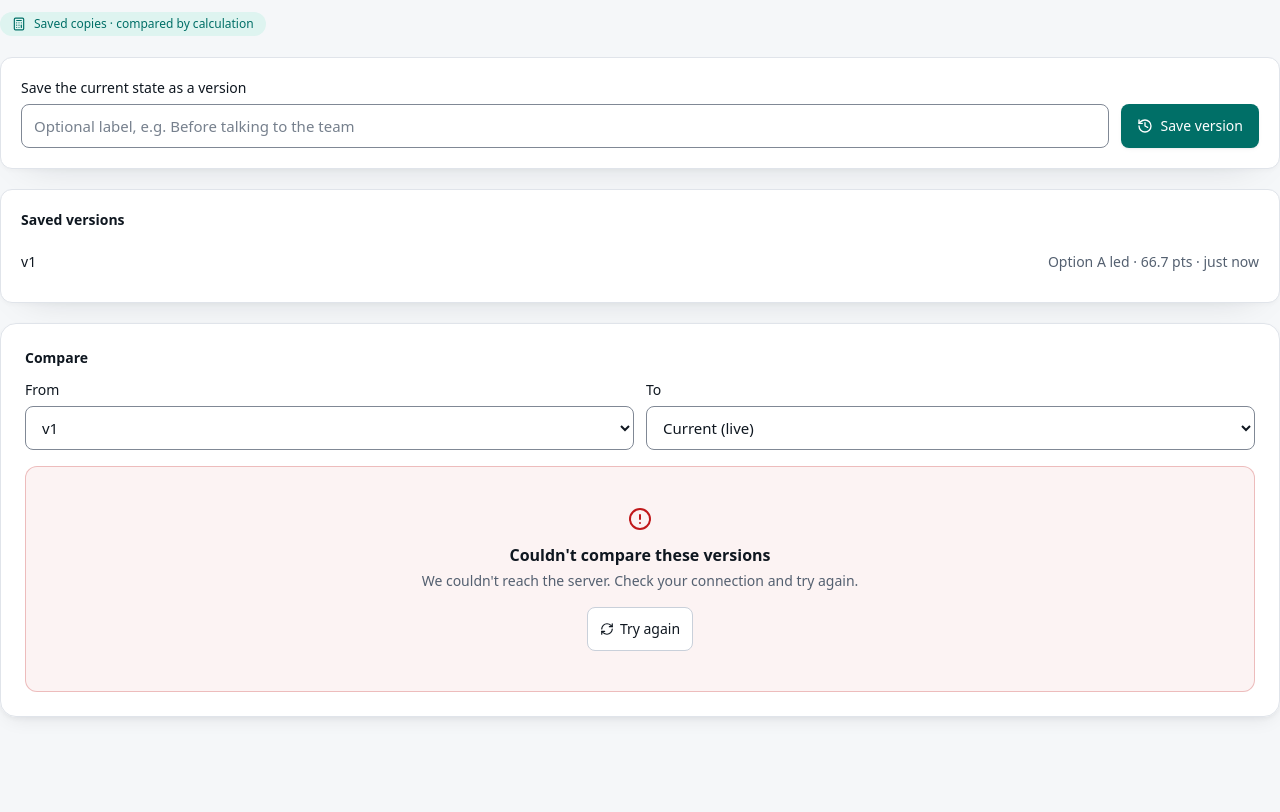
it: VersionsTab › does not compare a version with itself
Check: the dropdown labelled "From" is shown, box [25, 406, 634, 450]
Select "v1" in the dropdown labelled "To" at (950, 428), box [646, 406, 1255, 450]
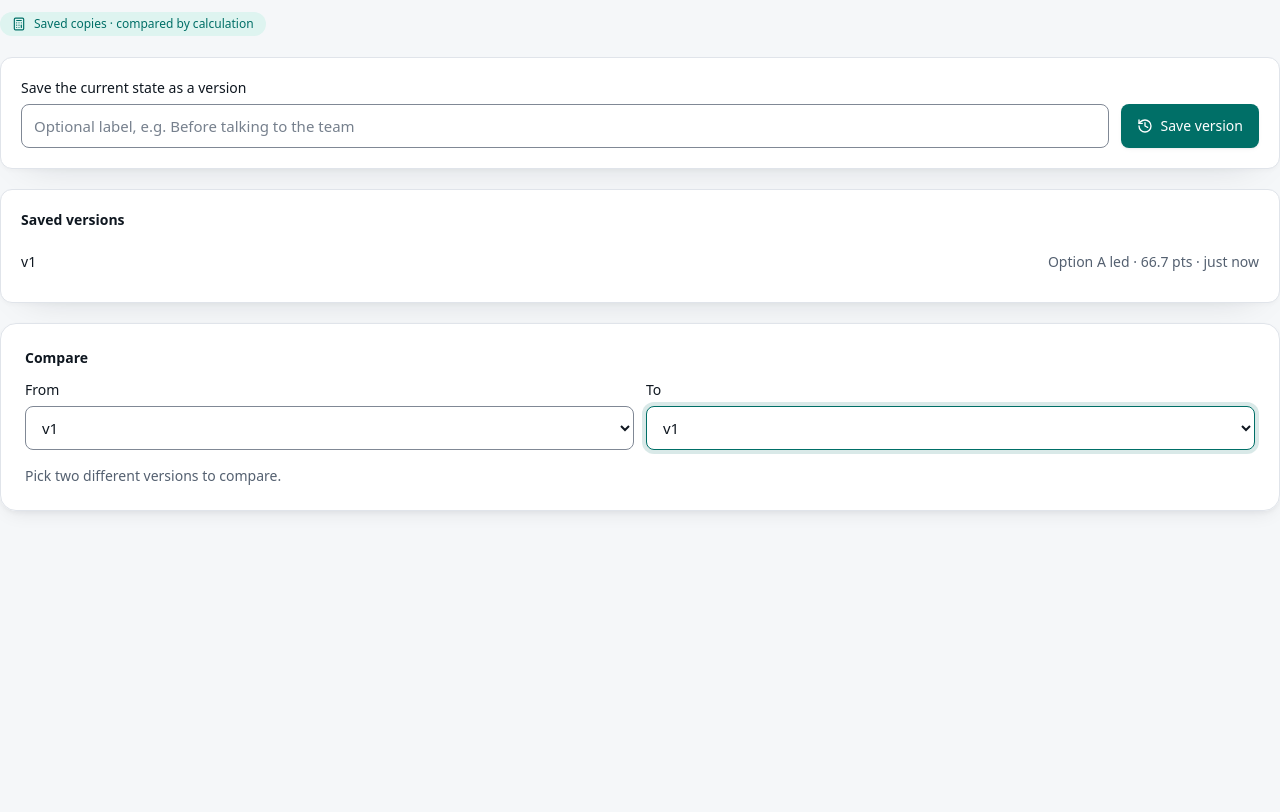
Check: the text "Pick two different versions to compare." is shown, box [25, 466, 281, 485]
